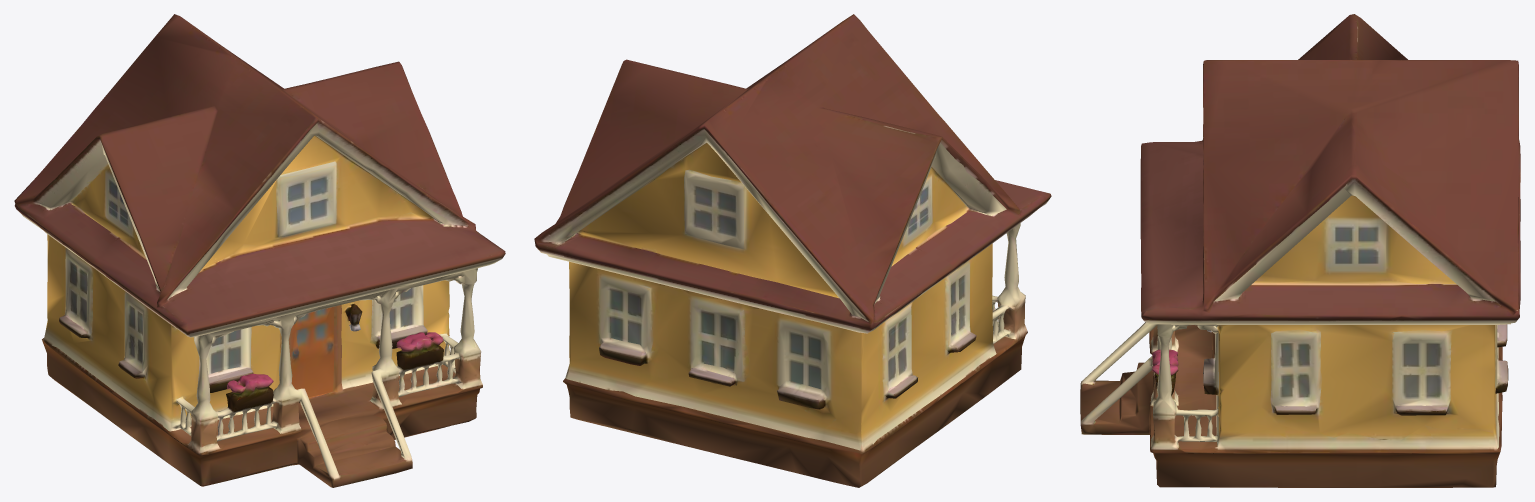
File: house_bungalow.glb
3 views of the same model, side by side, from view 1: azimuth 30°, elevation 25°; view 2: azimuth 150°, elevation 25°; view 3: azimuth 270°, elevation 25° (orthographic). The views are drawn at different scales.
Bounding box in the file's own units: 0.9284 × 0.8857 × 0.9978.
1 material, 1 textured.
